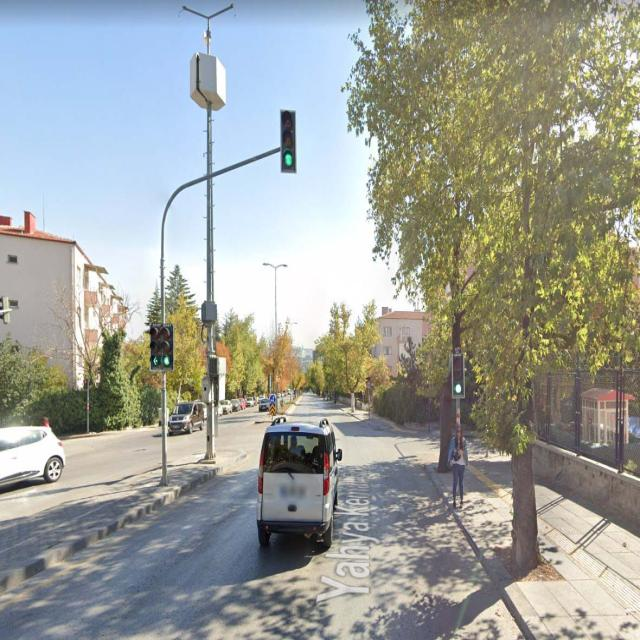yesil: (280, 109, 296, 173), (161, 323, 173, 369), (452, 354, 464, 396)
